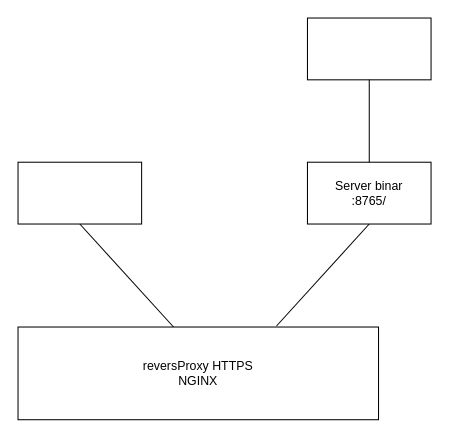
Image size: 449x438. Some labels were removed from this diagram. Here are the shapes that lost their labels. From the top down, the box of each, then its label:
(306, 17, 431, 80): PG
(17, 161, 142, 224): NGINX New WEB :80/proposal
